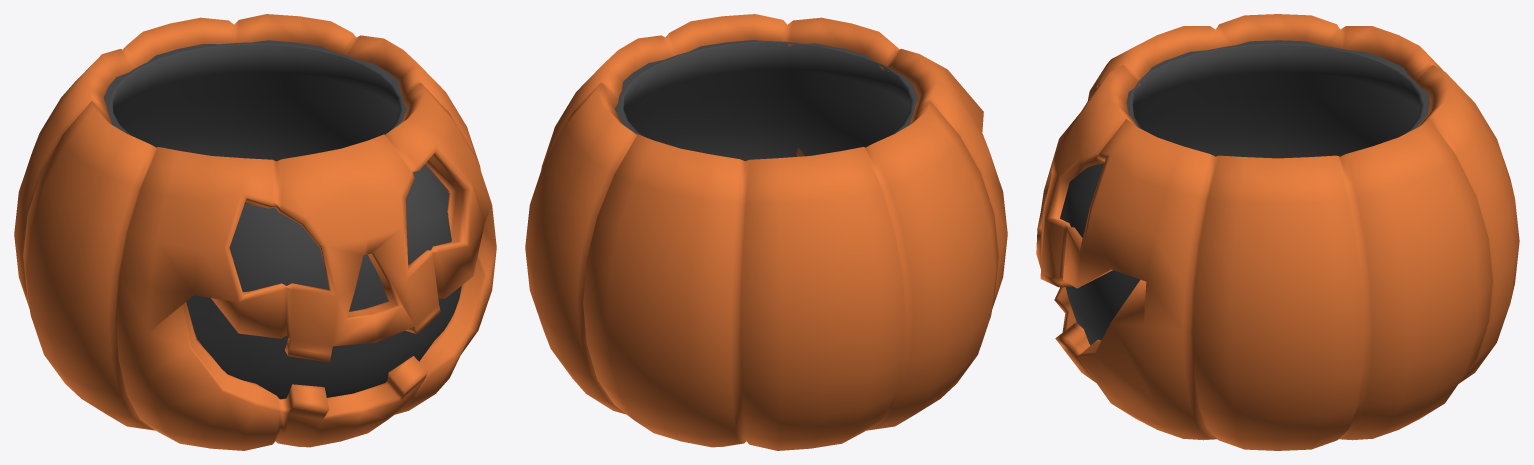
The model's file is pumpkin.glb.
3 views of the same model, side by side, from view 1: azimuth 30°, elevation 25°; view 2: azimuth 150°, elevation 25°; view 3: azimuth 270°, elevation 25° (orthographic).
Visible parts, largest first — view 1: NurbsPath.001; view 2: NurbsPath.001; view 3: NurbsPath.001.
Part boxes in pixels (x1=…): NurbsPath.001: x1=14, y1=14, x2=496, y2=450; NurbsPath.001: x1=525, y1=14, x2=1007, y2=450; NurbsPath.001: x1=1036, y1=14, x2=1519, y2=450.
Size of the model in its own units: 2 by 1.42 by 2.
